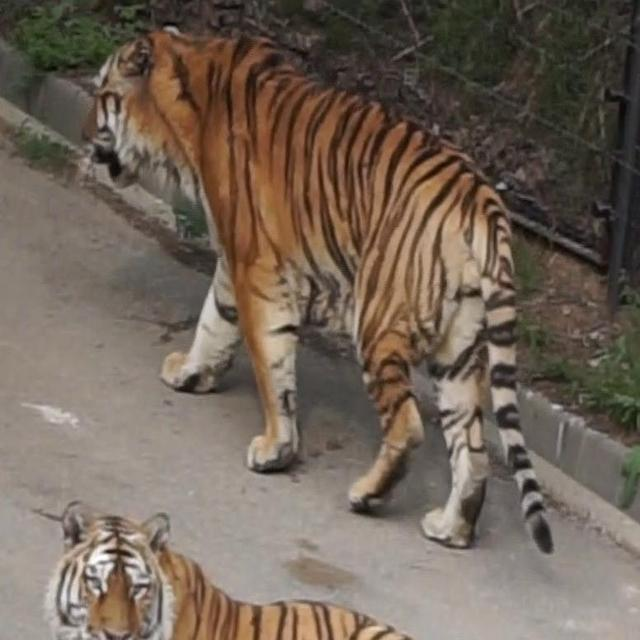tiger: (81, 23, 555, 554), (81, 80, 356, 396), (34, 498, 421, 639)
